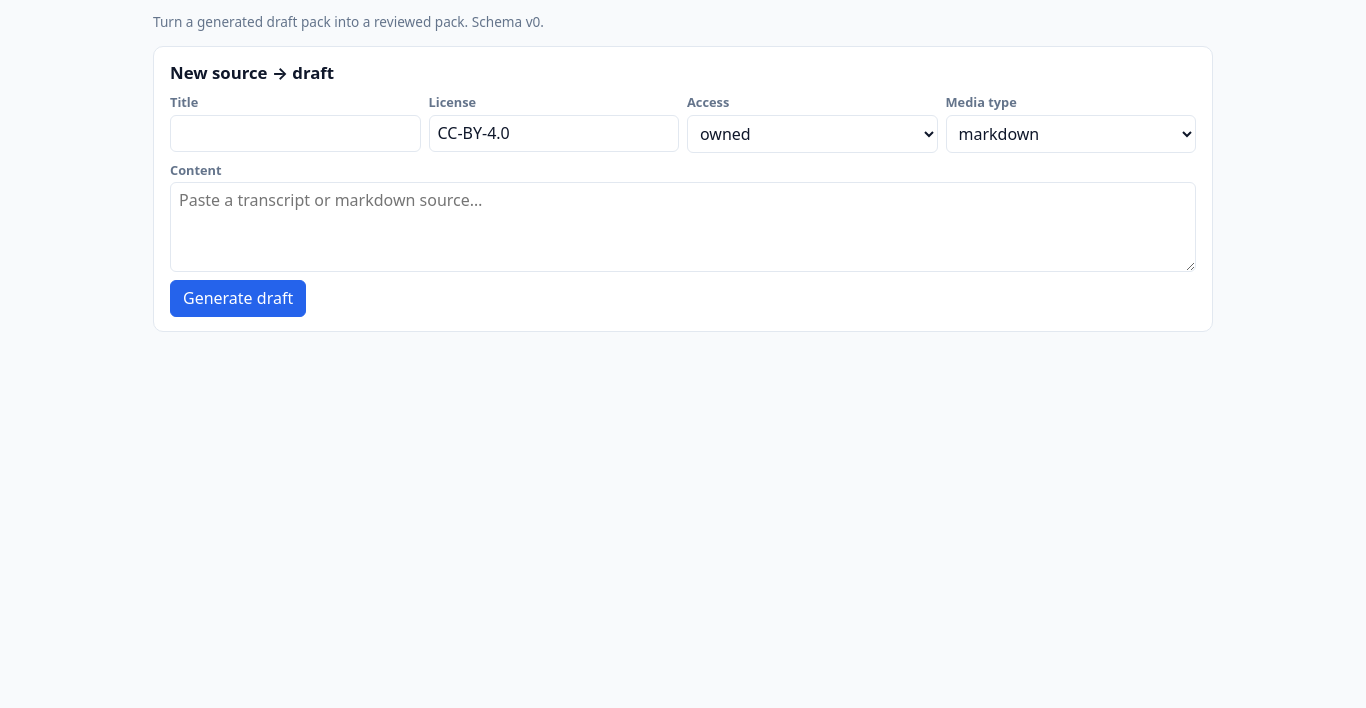
Test: tutor box › renders an answer with its citations
This screenshot has width=1366, height=708.
Type "Learning" into the field labelled "Title" at (295,134), box x1=170 y1=115 x2=420 y2=152
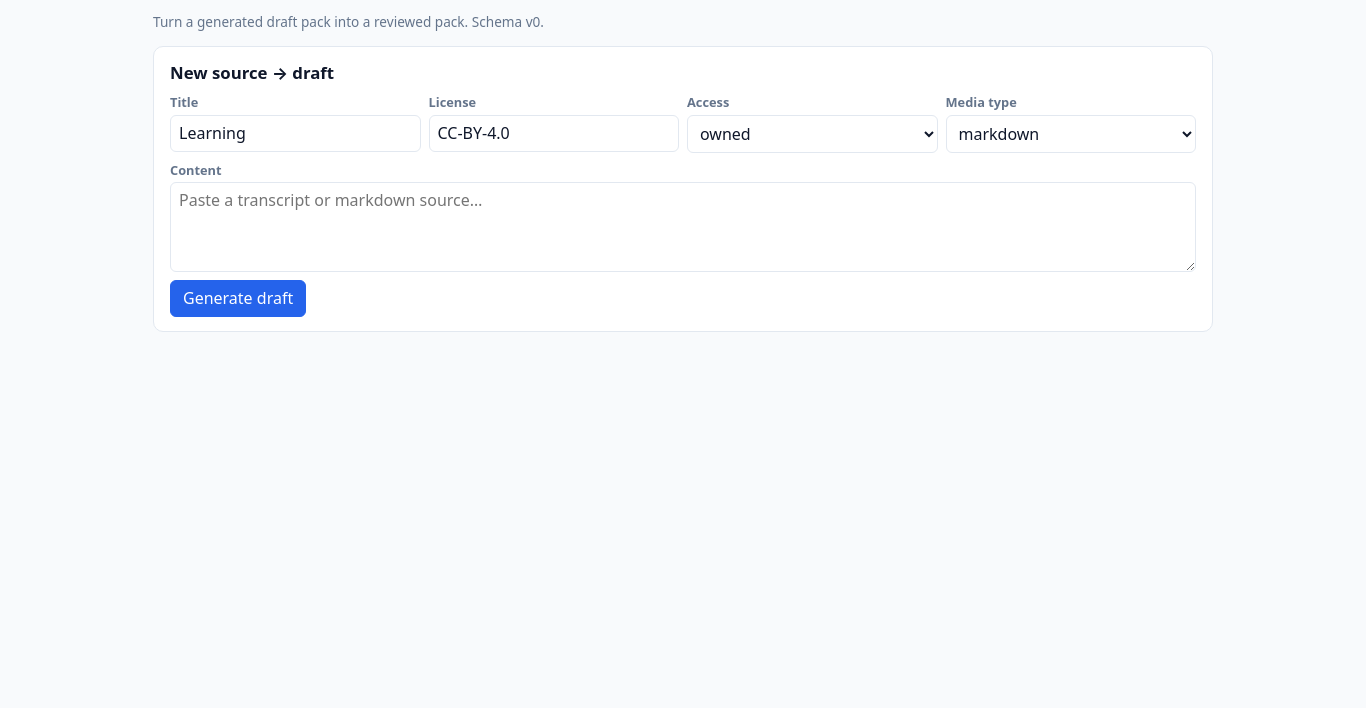
Type "spacing improves retention. memory decays over time." into the text box labelled "Content" at (683,227), box x1=170 y1=182 x2=1196 y2=272
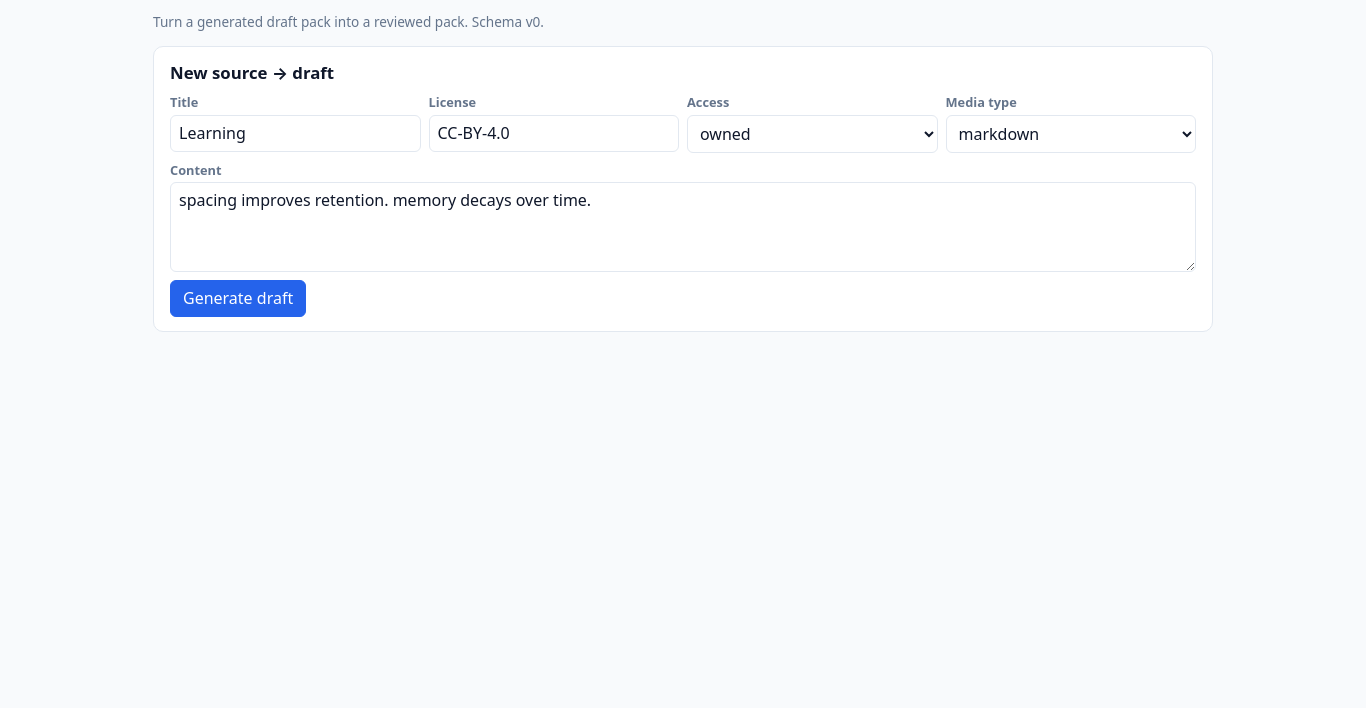
Click the button "Generate draft" at (238,299), box x1=170 y1=280 x2=306 y2=317
(page scrolled)
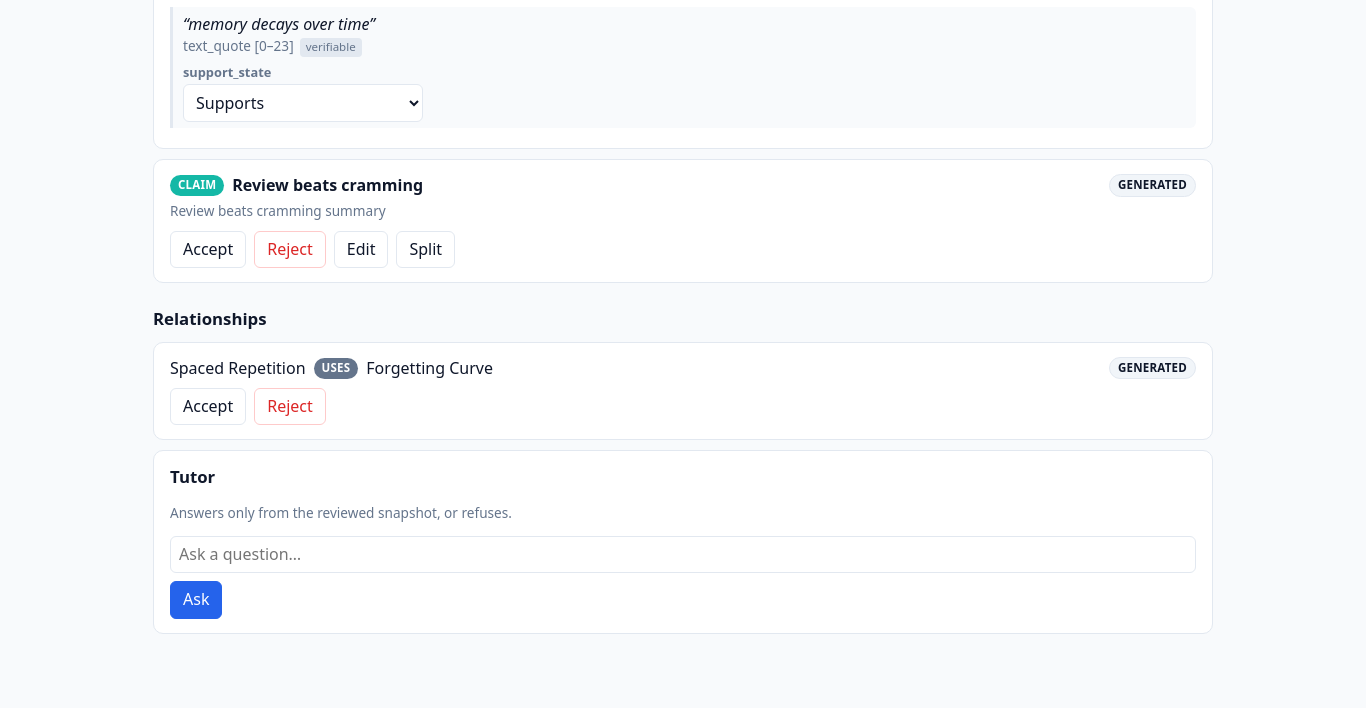
Type "Why space reviews?" into the field named "Tutor question" at (683,555), box x1=170 y1=536 x2=1196 y2=573
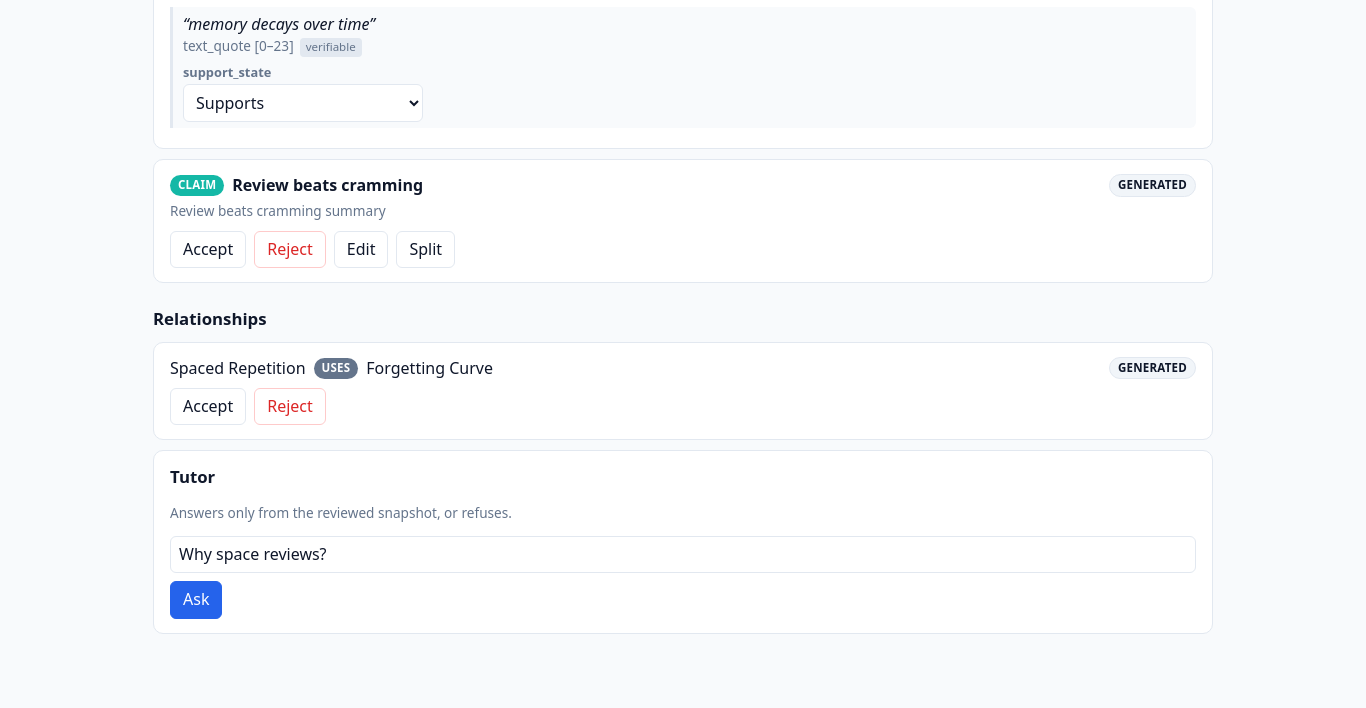
Click the button "Ask" at (196,600), box x1=170 y1=581 x2=222 y2=619
(page scrolled)
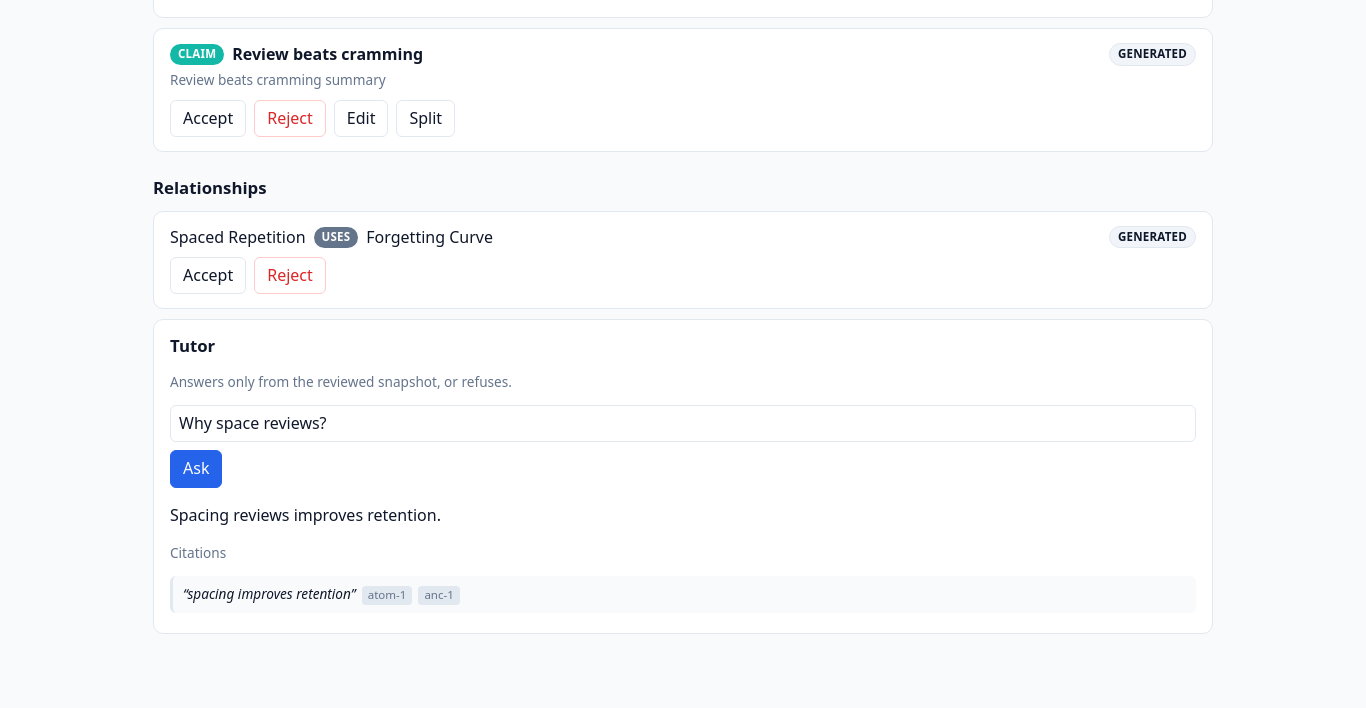
Expected: the element with test id "tutor-answer" is shown, x1=170 y1=504 x2=1196 y2=613
Expected: the text "Spacing reviews improves retention." is shown, x1=170 y1=504 x2=441 y2=526
Expected: the text "“spacing improves retention”" is shown, x1=183 y1=584 x2=356 y2=603
